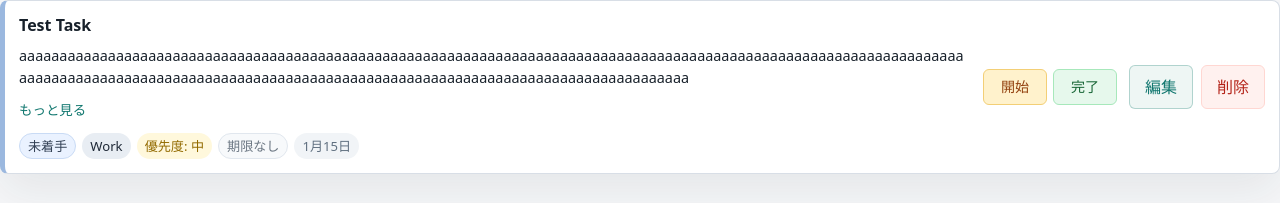
TaskItem › 「もっと見る」クリックで「折りたたむ」に切り替わる
This screenshot has width=1280, height=203.
Click the button "もっと見る": (53, 110) [19,95,86,125]
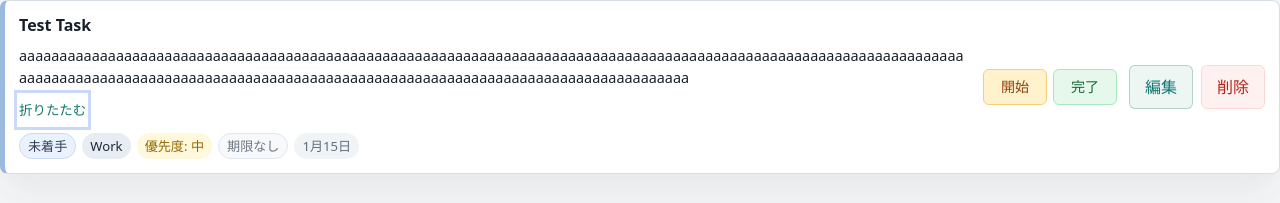
Expected: the button "折りたたむ" is shown, [19,95,86,125]
